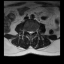CCS_normal: (29, 30, 31, 36)
LFS_stenosis: (33, 29, 35, 34)
LLS_normal: (31, 29, 33, 35)
RFS_severe_stenosis: (26, 29, 28, 34)
RLS_stenosis: (28, 29, 29, 36)
